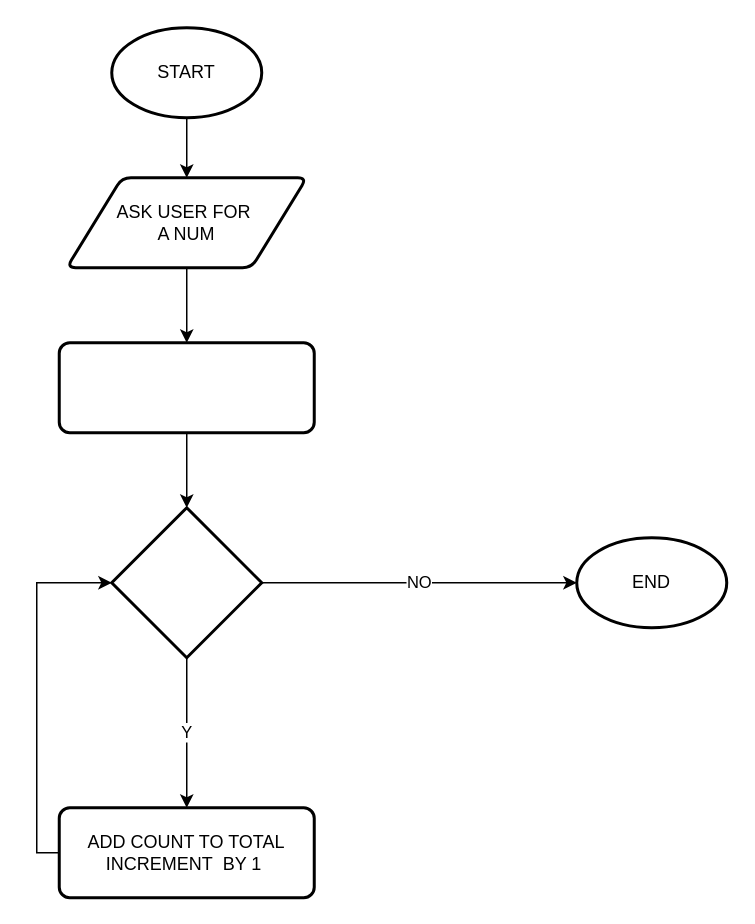
Image size: 755x924. Some labels were removed from this diagram. Each missing label, with the centre of its shape:
IF COUNT<= NUM: point 186,582
TOTAL = 0 COUNT = 0: point 186,387
